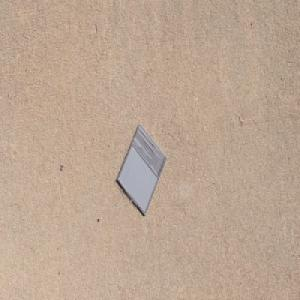PlasticPart: (116, 123, 168, 217)
